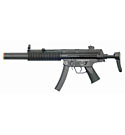rifle: (2, 32, 125, 103)
